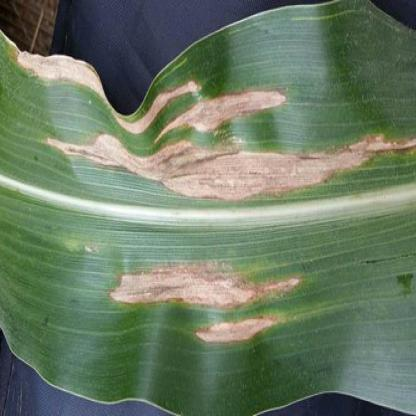Corn leaf blight: (2, 40, 415, 411)
